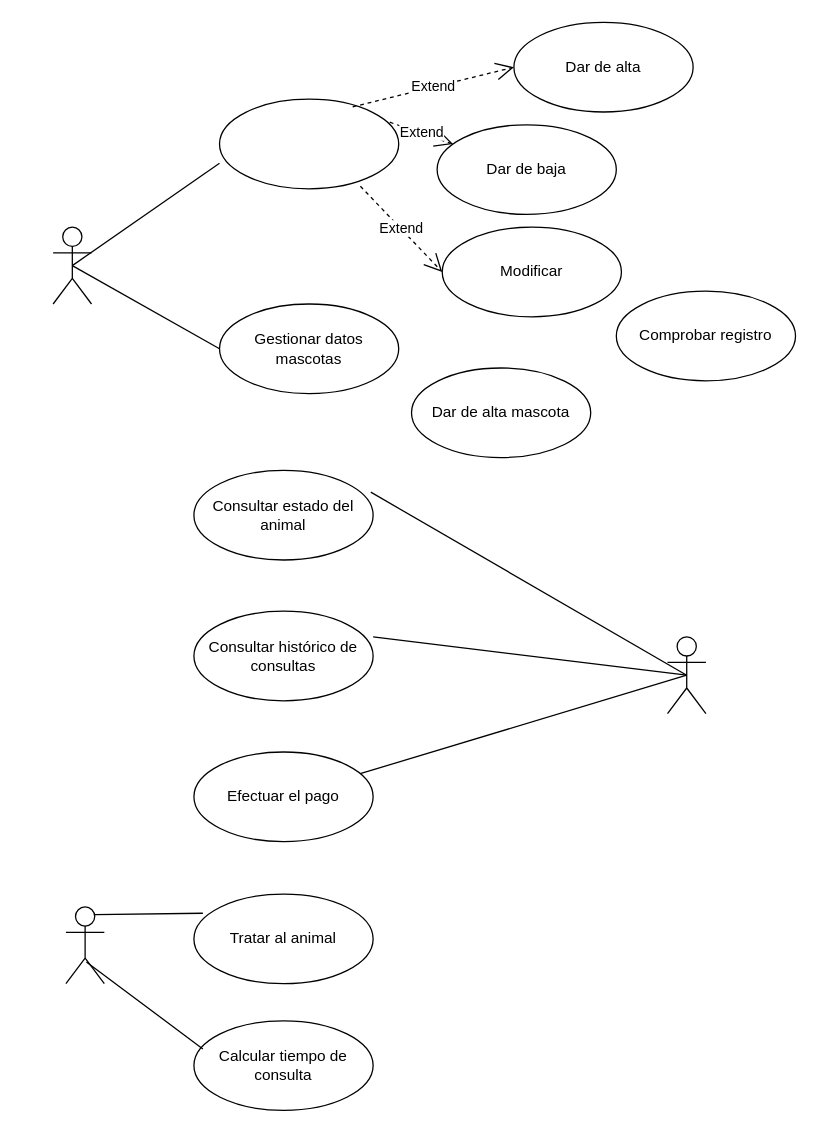
Image size: 818x1133. Some labels were removed from this diagram. The centre of each missing label's shape, as x and y in pixels:
"Administrativo" goes at [72,265].
"Cliente" goes at [686,675].
"Gestionar datos clientes" goes at [308,143].
"Veterinario" goes at [84,945].
